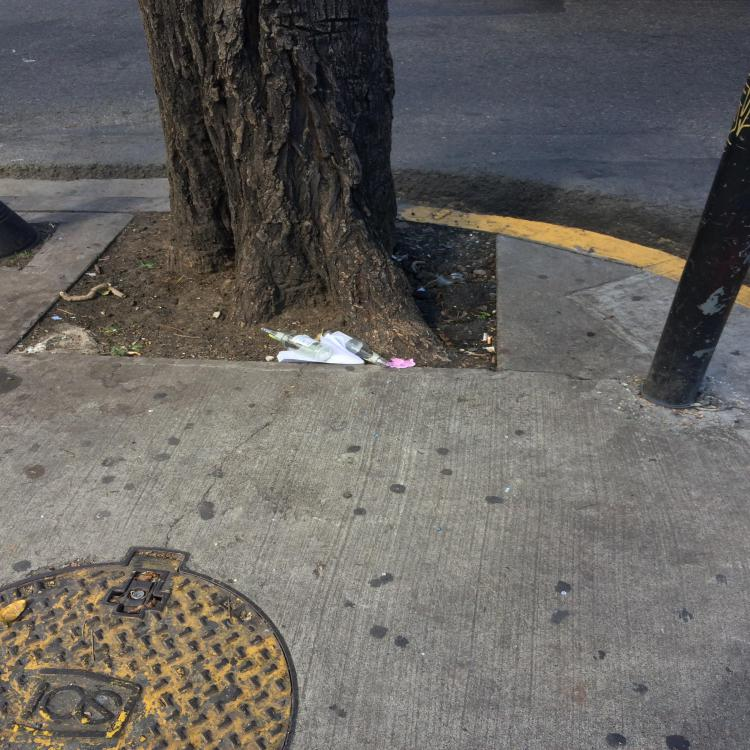Cigarette: (483, 333, 488, 341), (488, 337, 491, 344)
Glass bottle: (259, 325, 334, 362), (322, 328, 389, 368)
Normal paper: (276, 335, 364, 364)
